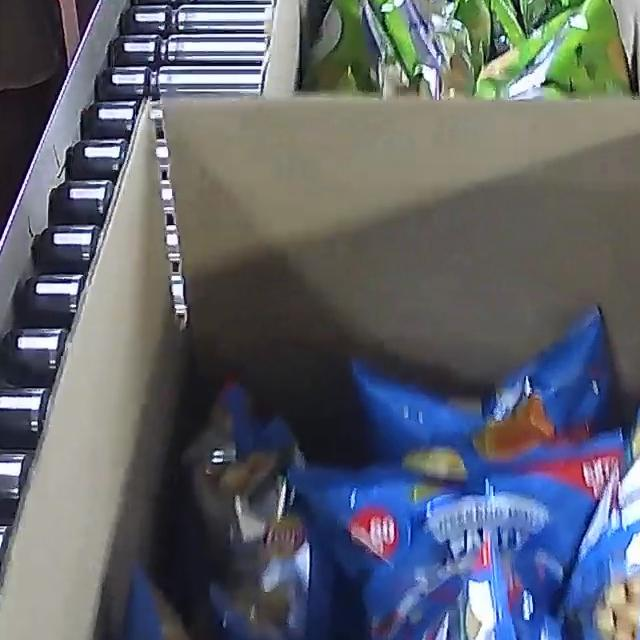paprika: (111, 301, 640, 640)
yogurt: (301, 0, 634, 101)
